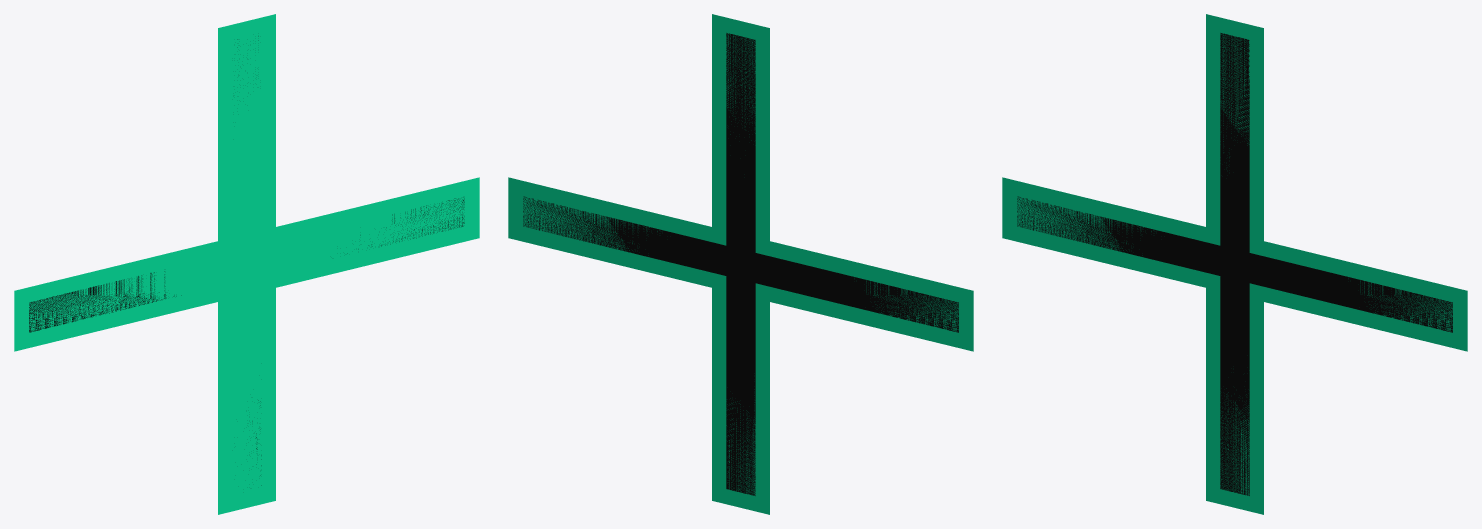
The picture shows the model from 3 angles, left to right: view 1: azimuth 30°, elevation 25°; view 2: azimuth 150°, elevation 25°; view 3: azimuth 330°, elevation 25°; orthographic projection.
Parts seen in each view (by area): view 1: BK1, obj1; view 2: BK1, obj1; view 3: BK1, obj1.
Boxes of the visible parts, x1,y1,x2,y2 form: BK1: [14, 14, 479, 514]; obj1: [29, 36, 464, 485]; BK1: [508, 14, 973, 514]; obj1: [523, 33, 958, 495]; BK1: [1002, 14, 1467, 514]; obj1: [1017, 33, 1452, 495].
Bounding box in the file's own units: 0.064 × 0.064 × 0.
